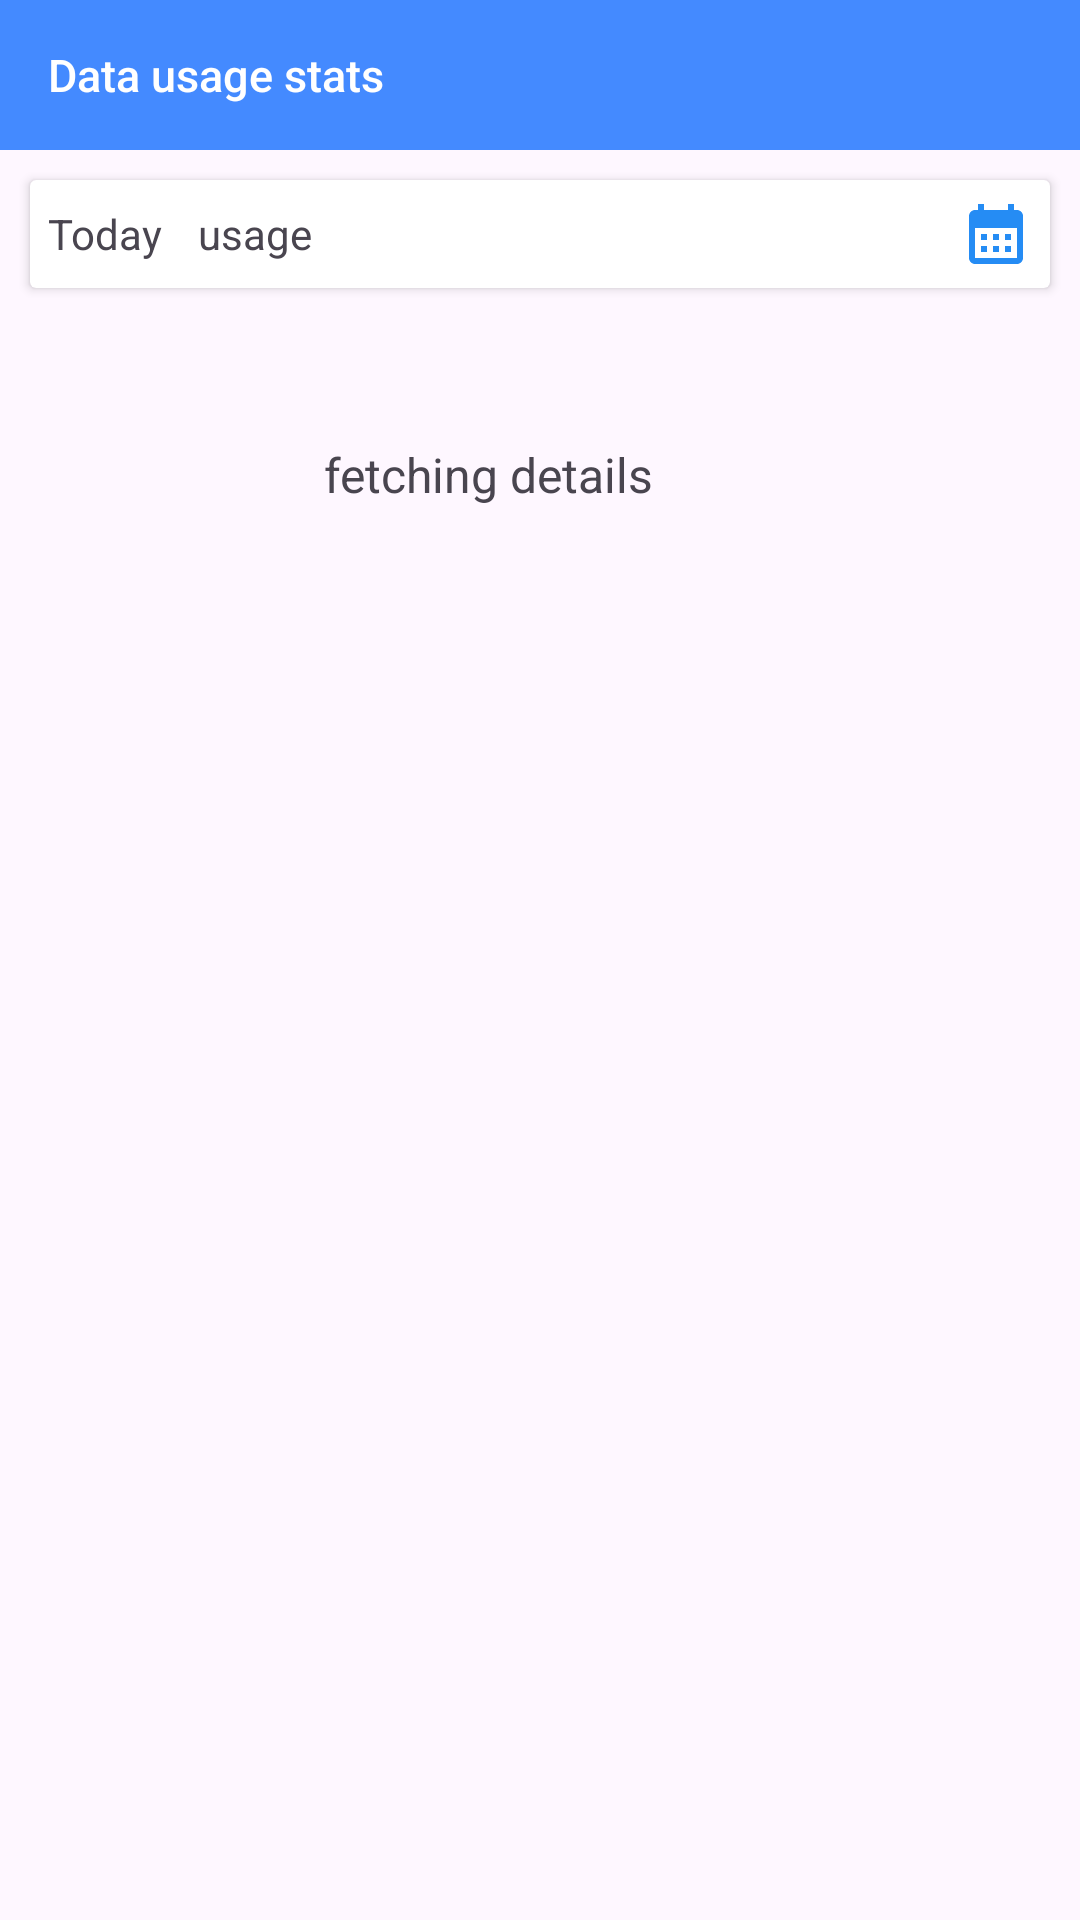

Icon bounding boxes for this 1080px x 1920px phone screenshot, format (x1, y1, x2, y2):
calendar month: (969, 204, 1023, 264)
